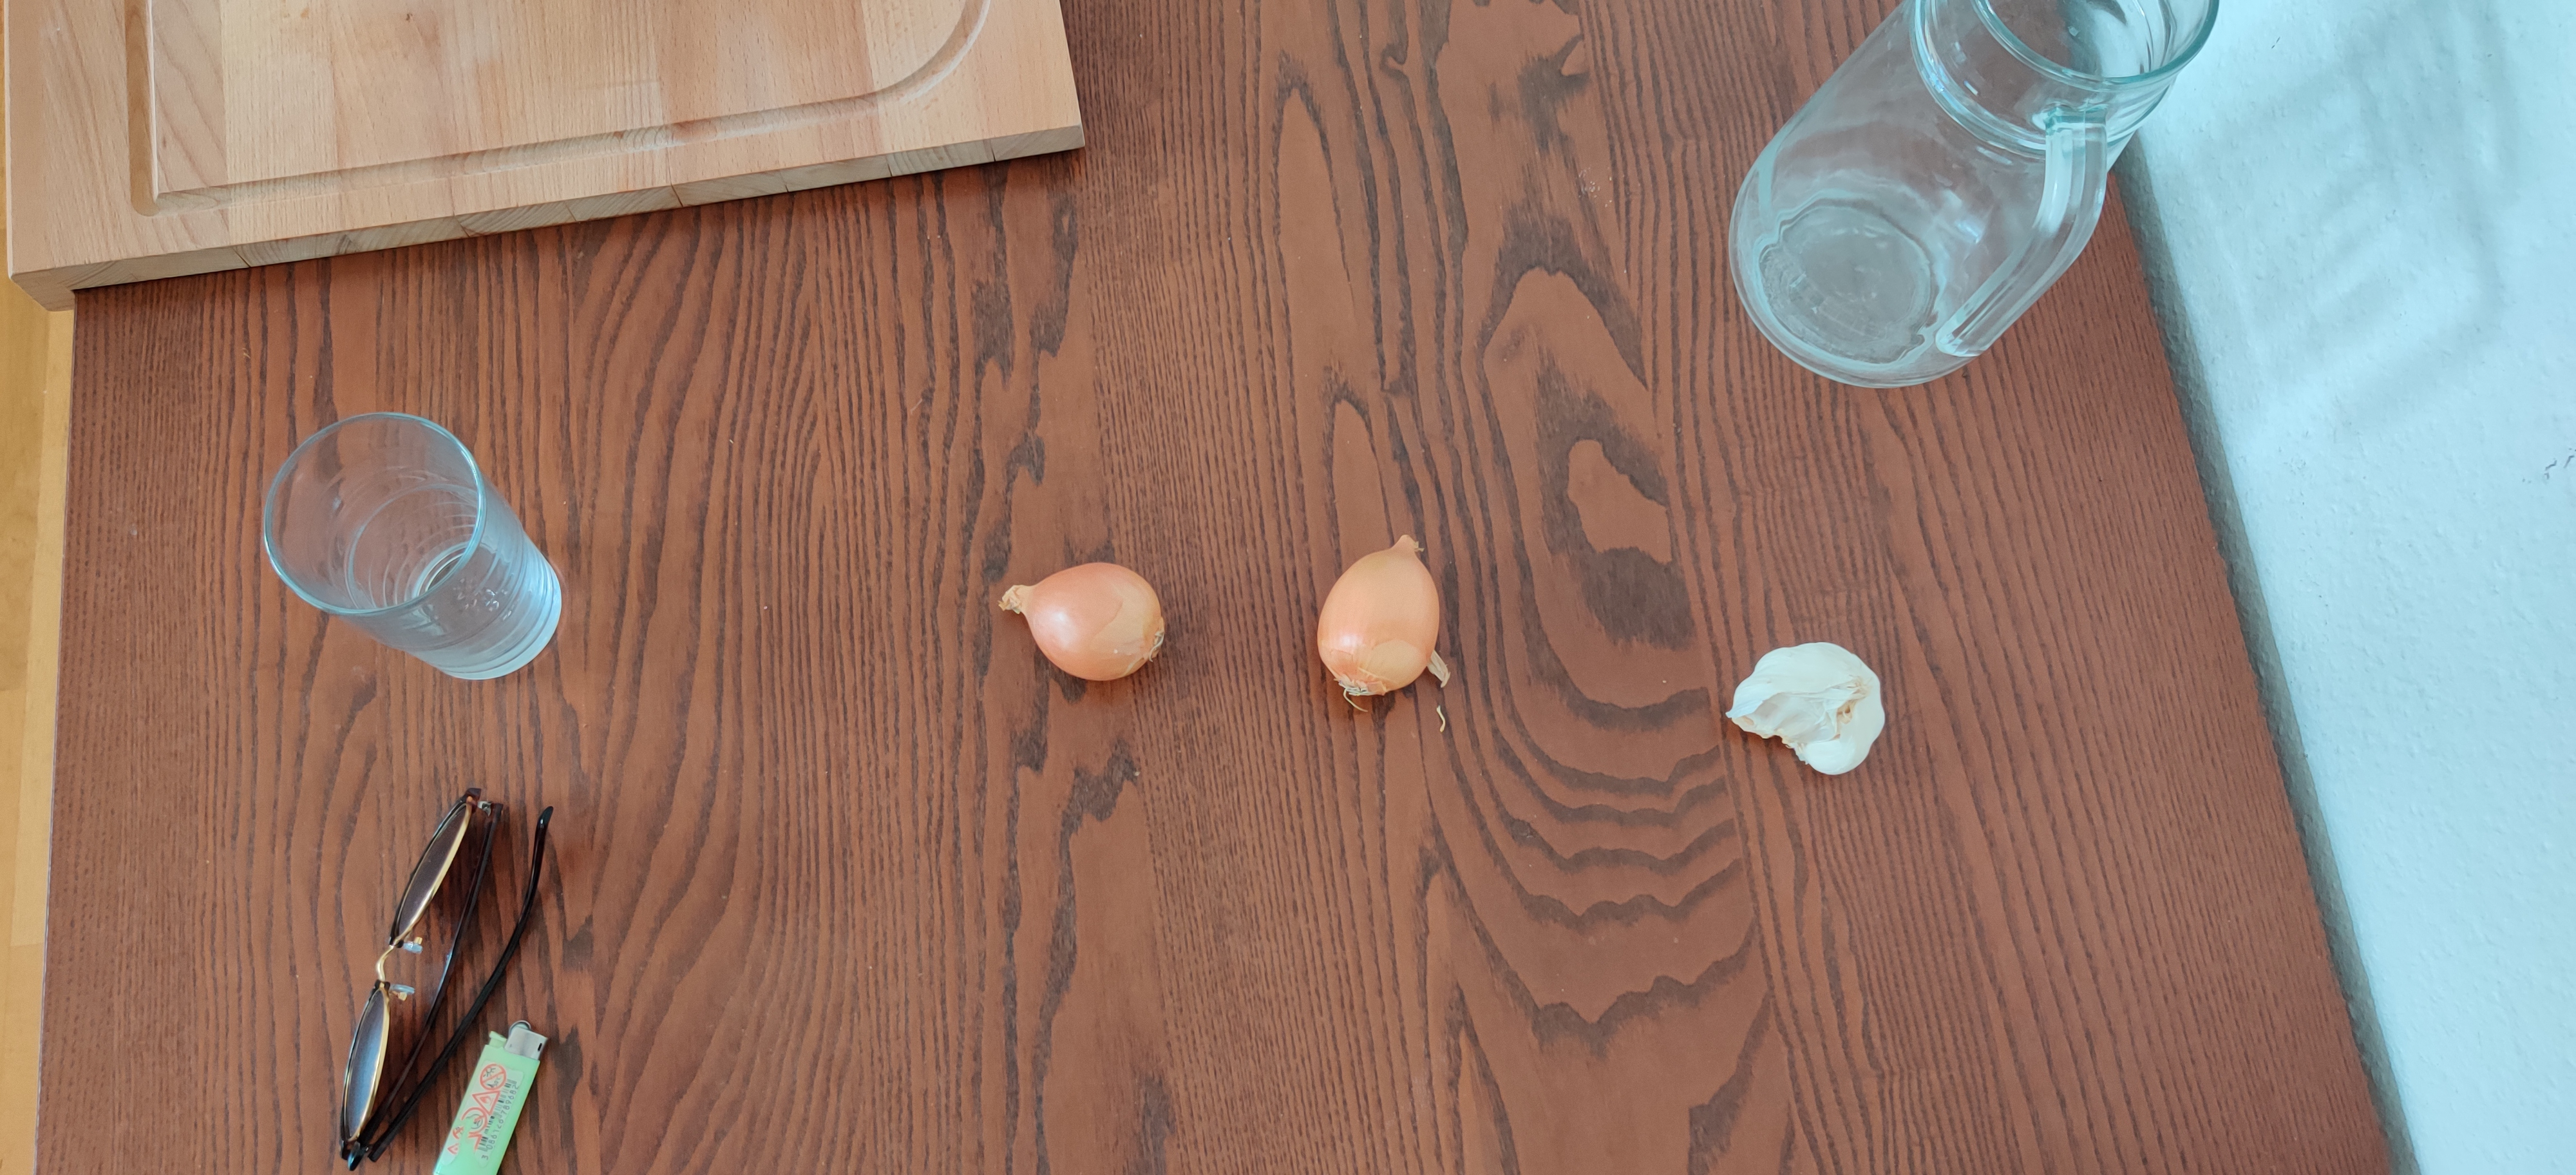Zwiebel: (1002, 559, 1166, 682), (1318, 534, 1439, 698)
